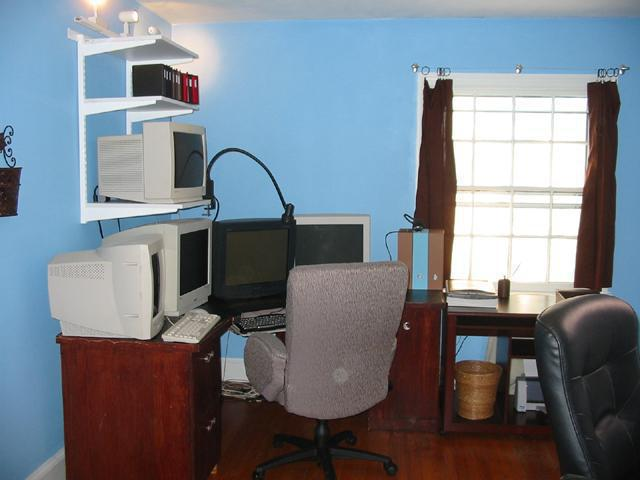Ventana: (426, 75, 603, 283)
